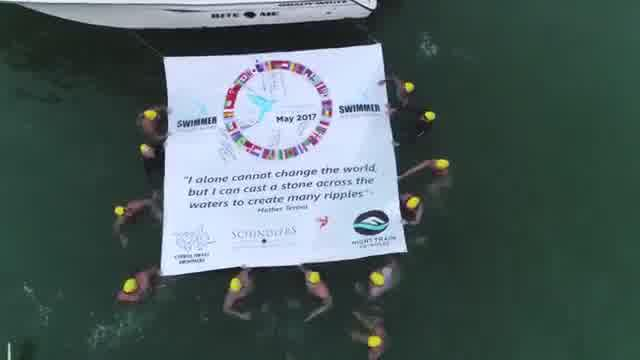swimmer: (106, 192, 174, 241), (396, 144, 456, 185), (217, 264, 260, 320), (298, 264, 336, 324), (111, 262, 159, 304), (351, 305, 389, 358), (359, 253, 403, 298), (379, 71, 415, 110), (132, 104, 170, 139), (400, 190, 430, 229), (134, 143, 164, 177)
